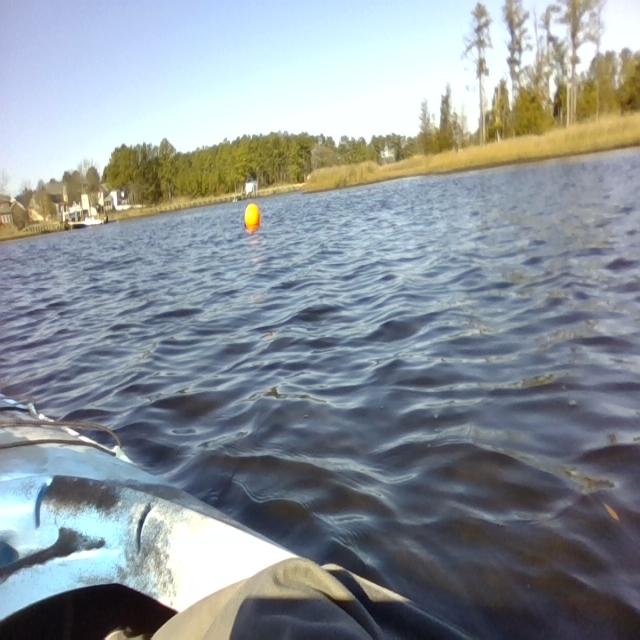Buoy: (241, 201, 263, 238)
